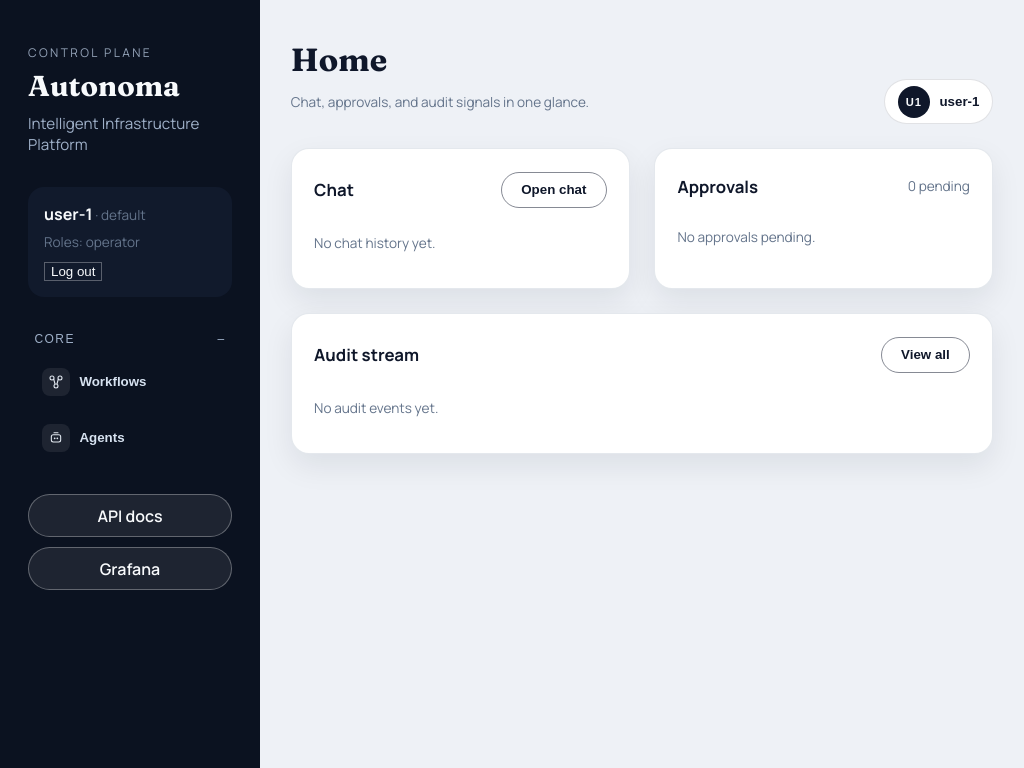
Test: App auth flow › shows full runtime events from agent history run details
Click the button "Agents".
click(130, 438)  # box [28,413,232,462]
(page scrolled)
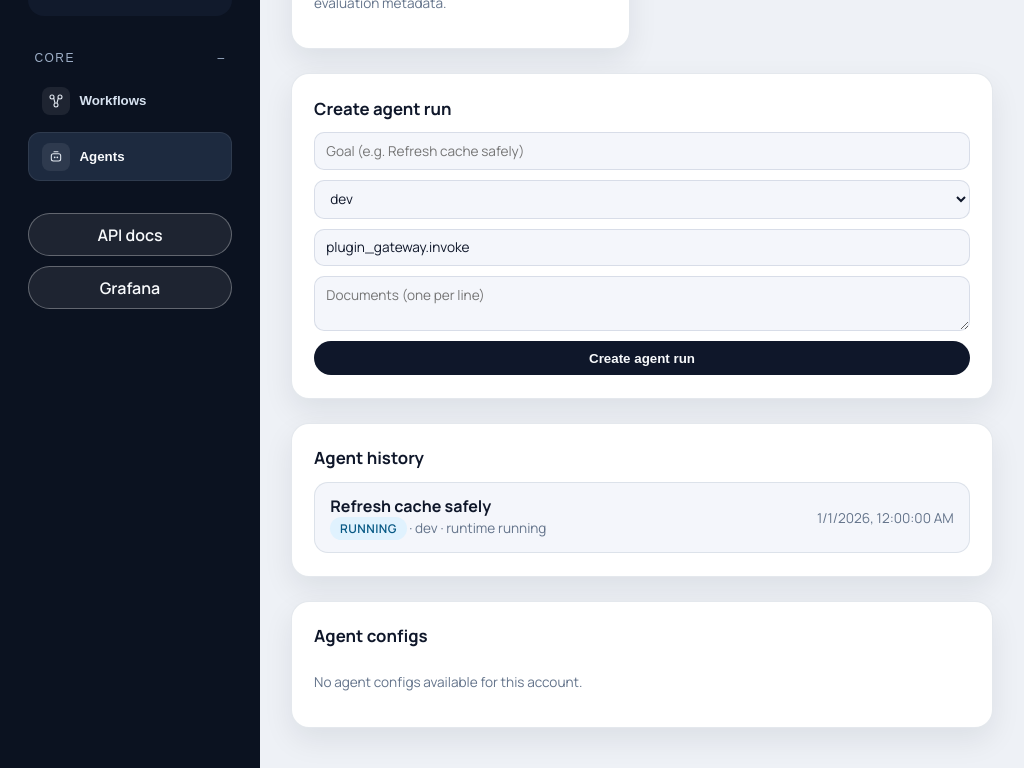
Click the button with aria-label "view details for agent run refresh cache safely".
click(411, 506)  # box [314,482,970,553]
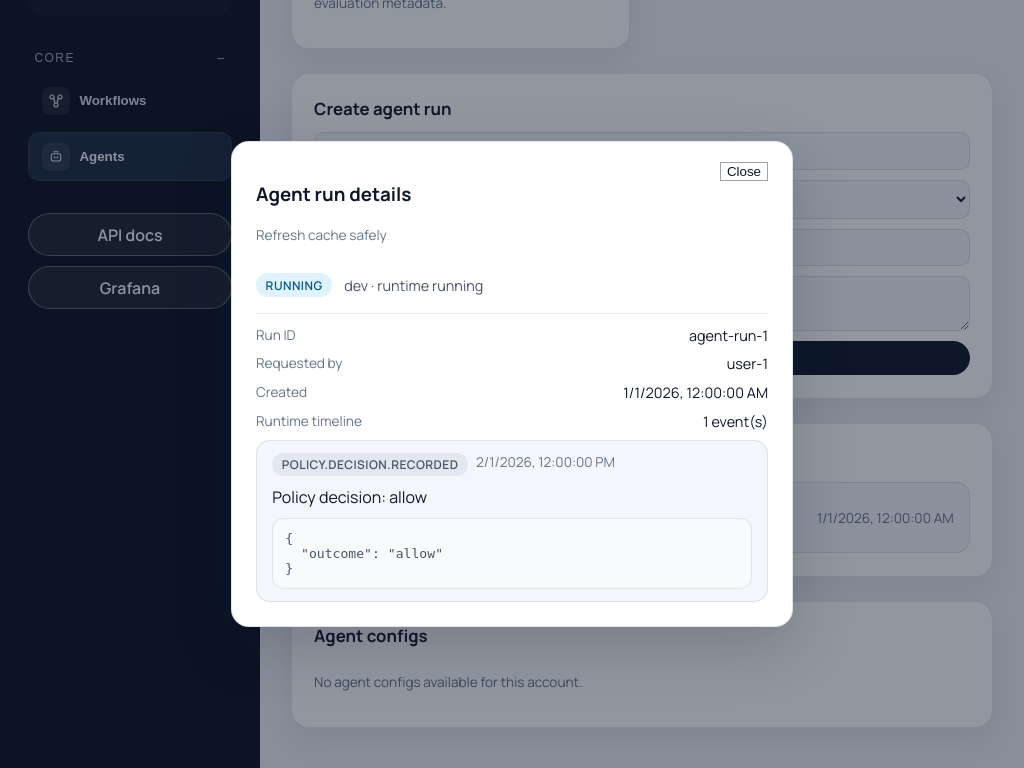
Expected: the dialog "Agent run details" is shown
Expected: the text "Runtime timeline" is shown, [256,412,362,430]
Expected: the text "policy.decision.recorded" is shown, [272,453,468,476]
